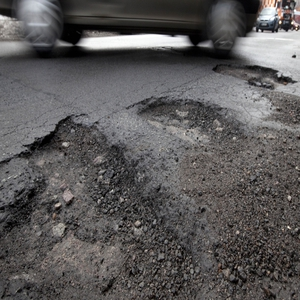pothole: (6, 121, 178, 300), (139, 97, 245, 153), (213, 61, 293, 95)
